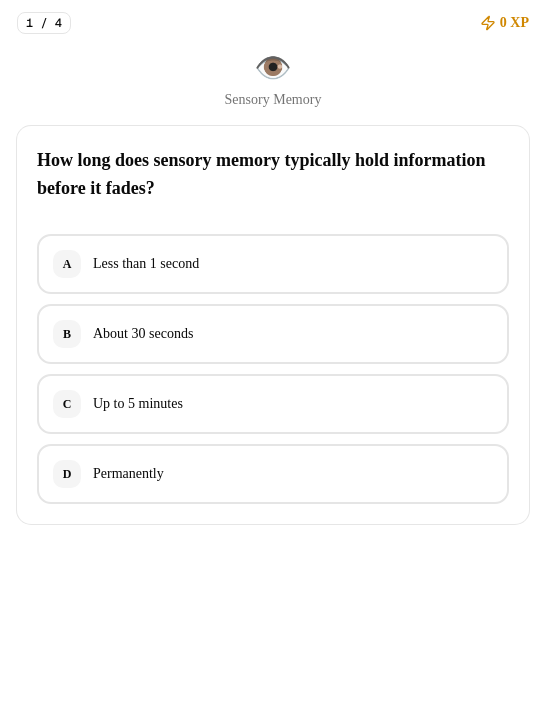
Test: QuizView Component › advances to next quiz on continue click
What coordinates should you click on to do the following:
click the text "Less than 1 second"
I would click on:
 (146, 264)
Its box is x1=93 y1=256 x2=199 y2=271.
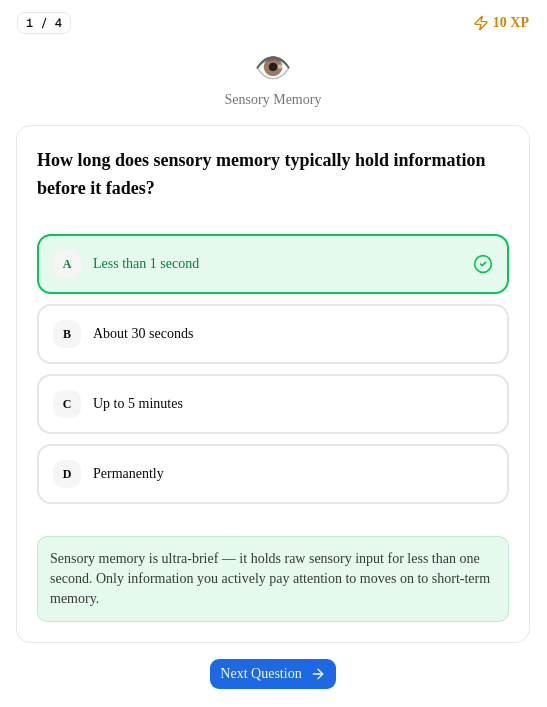
What coordinates should you click on to do the following:
click the button "Next Question"
I would click on:
 (273, 674)
Its box is x1=209 y1=658 x2=337 y2=690.
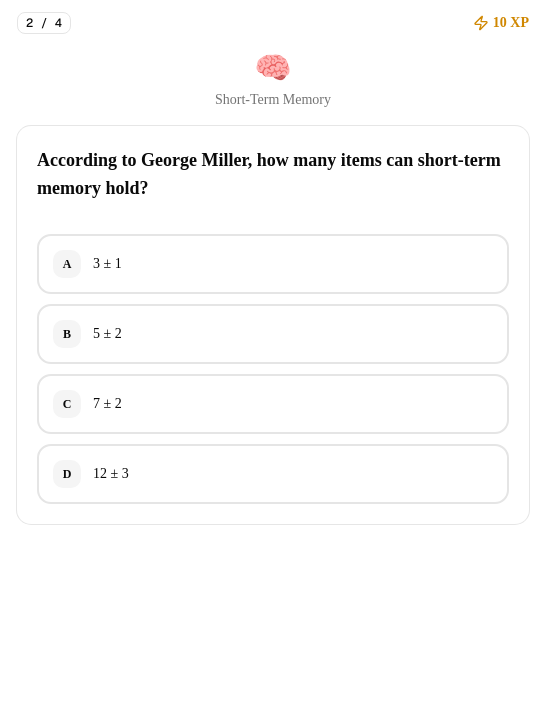
Expected: the heading "George Miller" is shown, x1=37 y1=150 x2=501 y2=198
